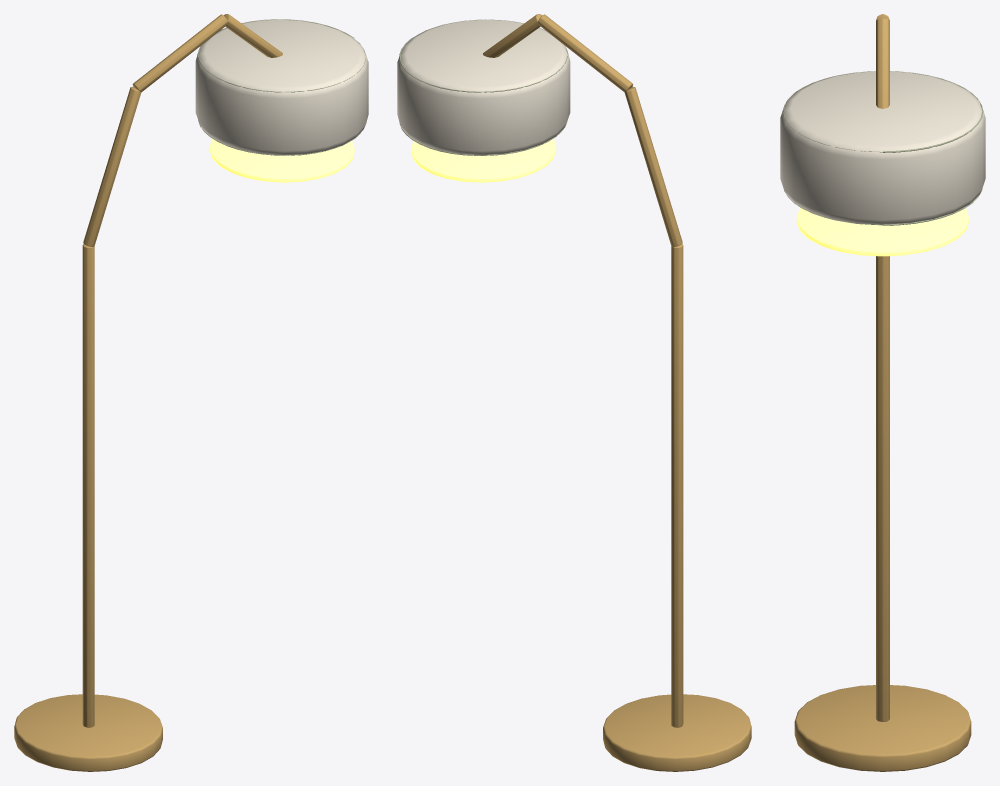
Rendered from arc-reading-lamp.glb.
3 views of the same model, side by side, from view 1: azimuth 30°, elevation 25°; view 2: azimuth 150°, elevation 25°; view 3: azimuth 270°, elevation 25° (orthographic). The views are drawn at different scales.
Visible parts, largest first — view 1: arc-reading-lamp; view 2: arc-reading-lamp; view 3: arc-reading-lamp.
Part boxes in pixels (x1,y1,x2,y2): arc-reading-lamp: (14,14,368,771); arc-reading-lamp: (397,14,751,771); arc-reading-lamp: (780,14,985,771).
Bounding box in the file's own units: 0.9 × 1.8 × 0.42.
